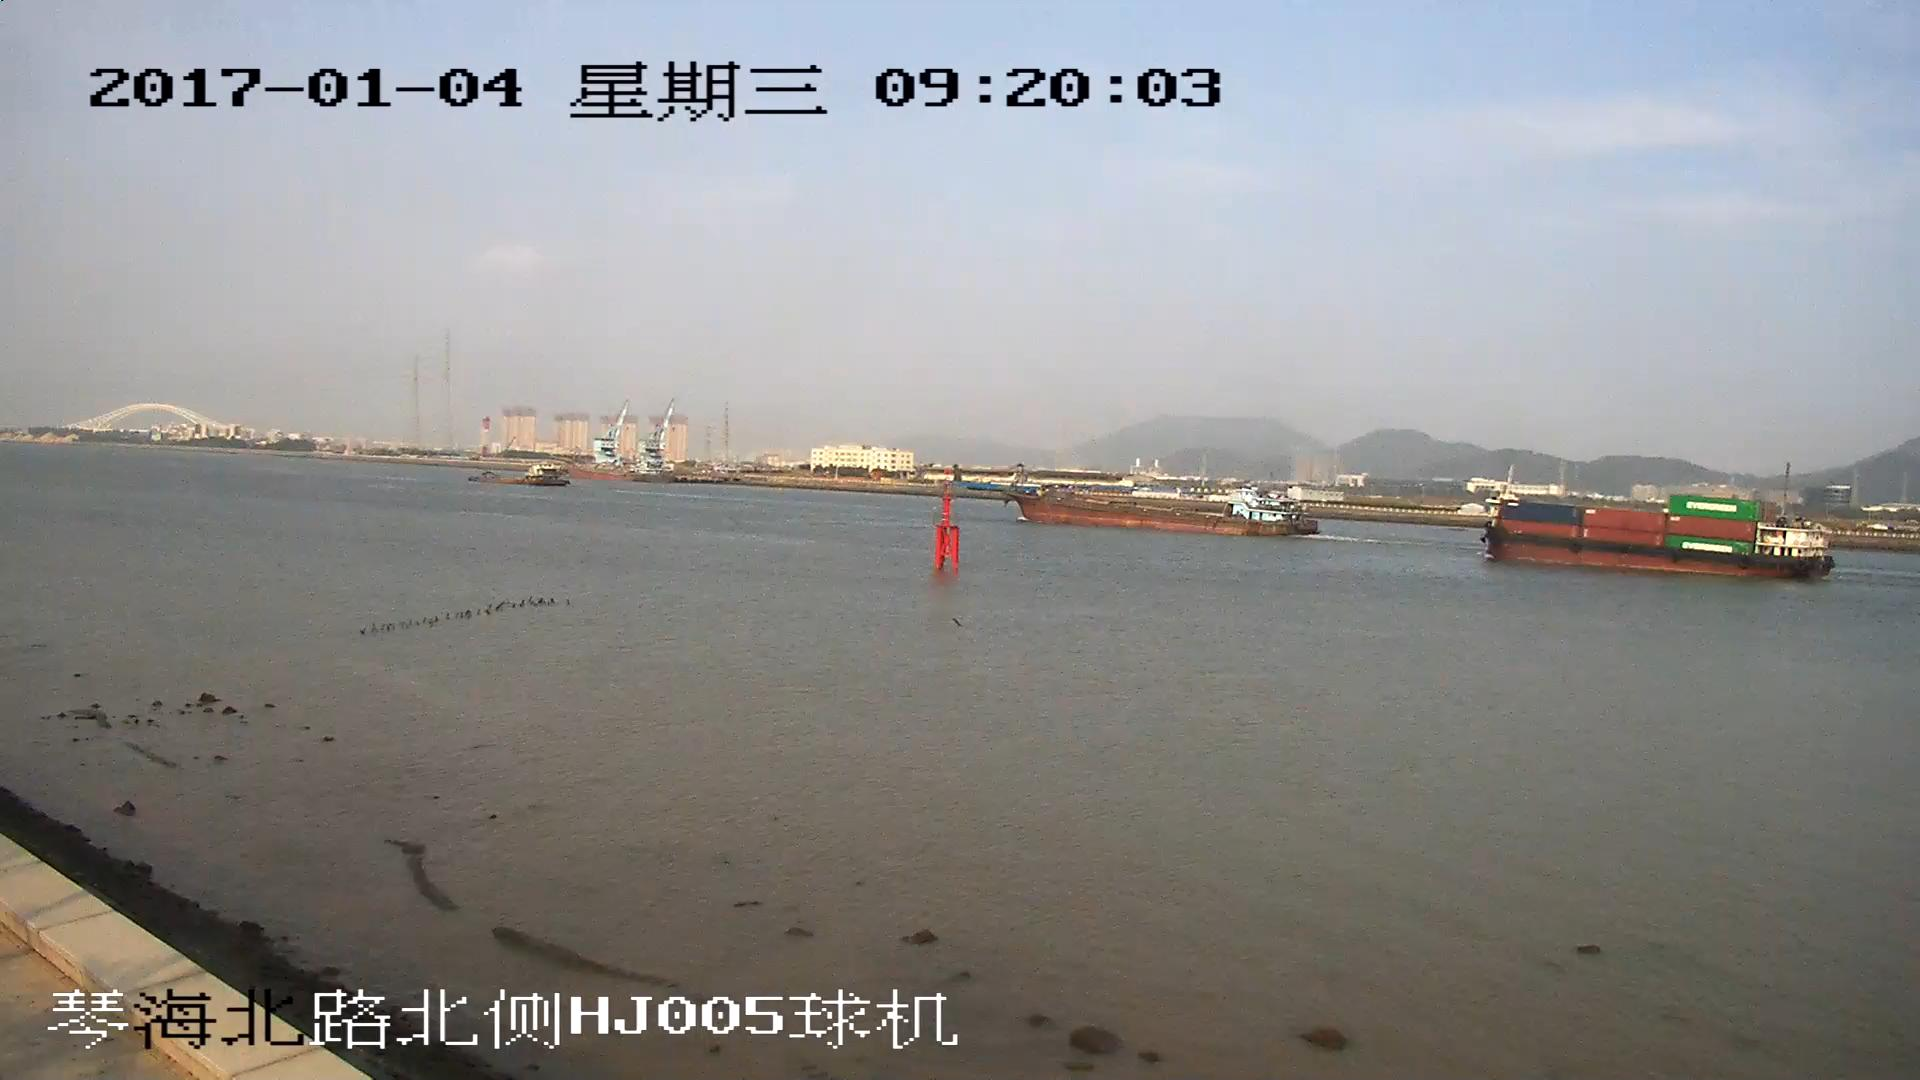bulk cargo carrier: (1002, 479, 1323, 536)
container ship: (1487, 493, 1835, 580)
